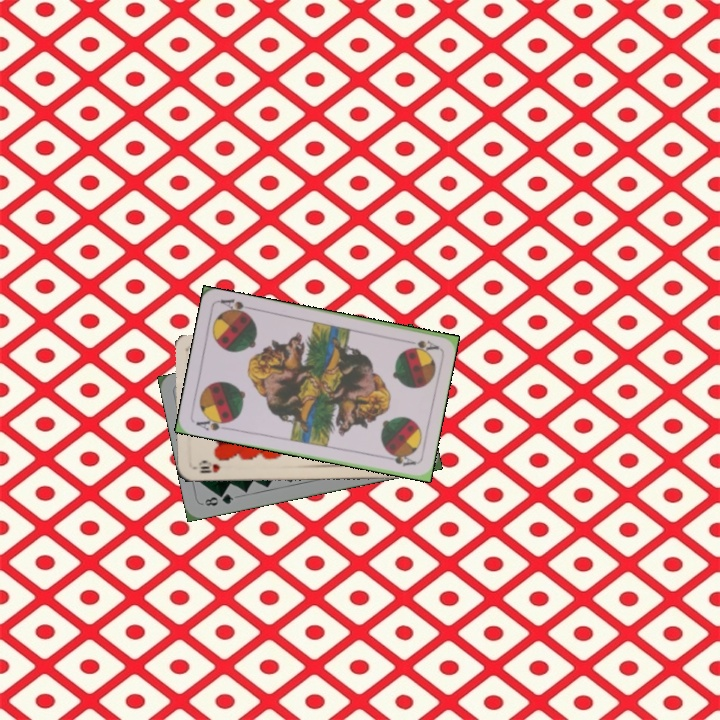G8: (201, 489, 236, 509)
H10: (191, 458, 222, 476)
SA: (192, 413, 233, 433), (400, 336, 440, 354)
